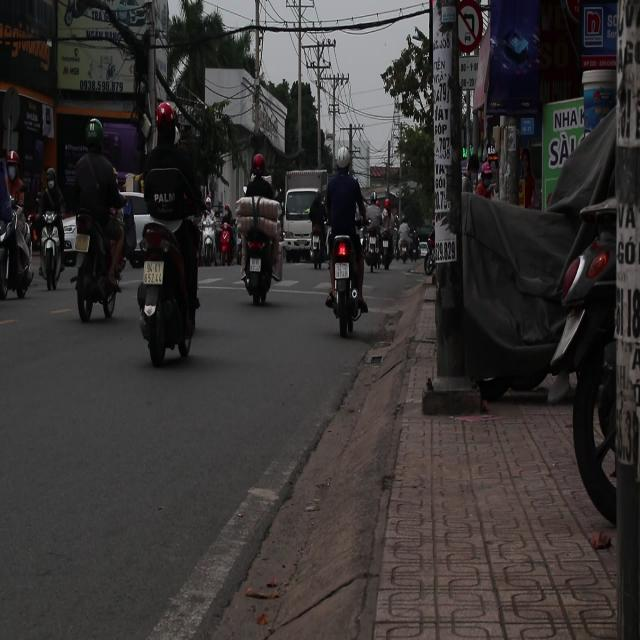motorbike: (134, 228, 194, 368), (73, 212, 125, 324), (323, 227, 366, 339), (0, 195, 33, 300), (240, 220, 274, 310), (37, 209, 63, 298), (366, 225, 394, 273), (200, 220, 219, 267), (379, 223, 395, 270), (366, 228, 382, 273), (220, 222, 236, 265)
truck: (279, 174, 327, 262)
